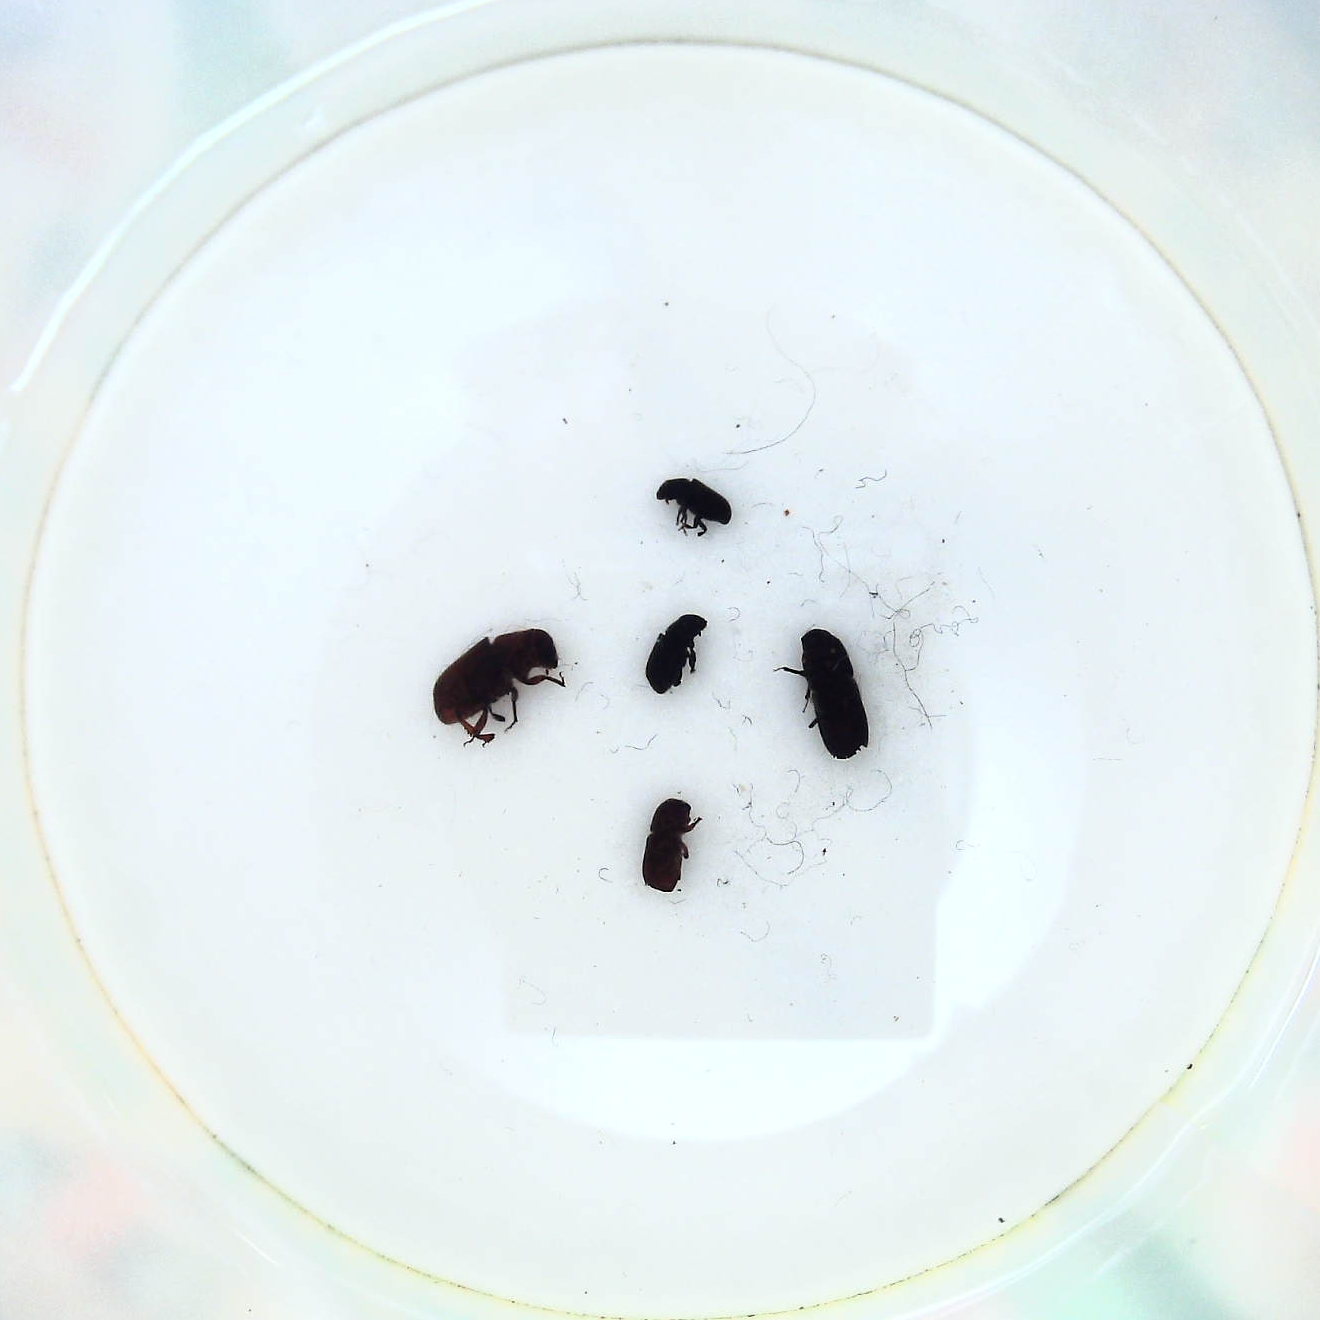Boerner: (780, 627, 878, 764)
Leconte: (429, 623, 571, 743)
armandi: (639, 610, 714, 704)
coleoptera: (652, 476, 736, 544)
linnaeus: (639, 791, 705, 901)
